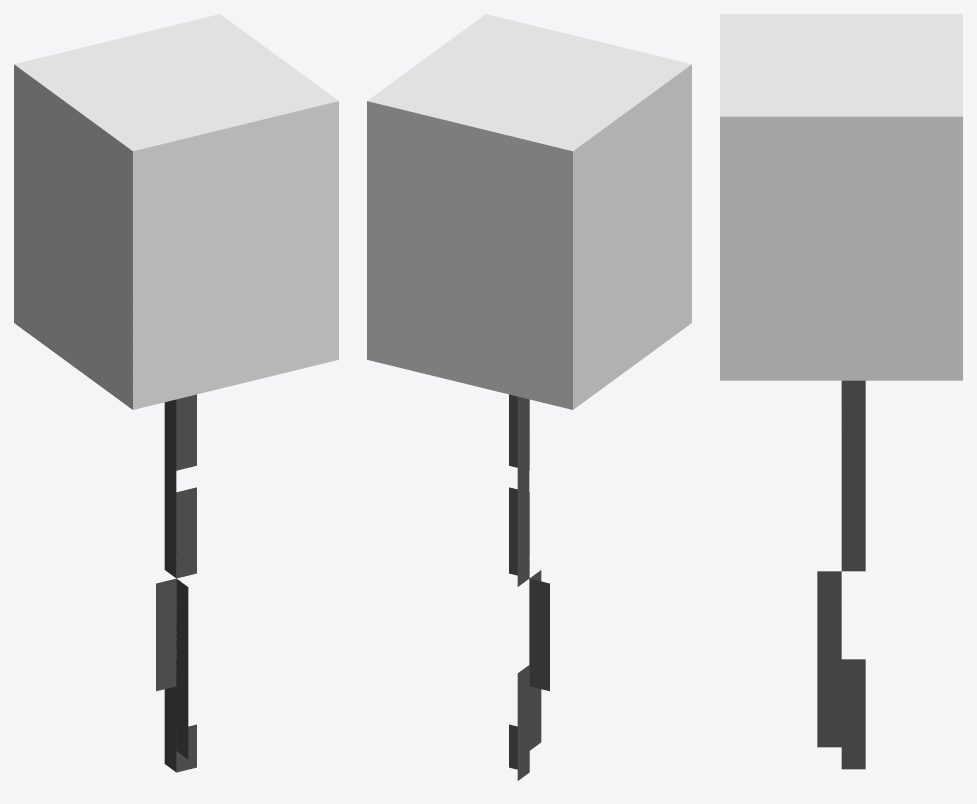
The model's file is balloon.fbx.
The picture shows the model from 3 angles, left to right: view 1: azimuth 30°, elevation 25°; view 2: azimuth 150°, elevation 25°; view 3: azimuth 270°, elevation 25°; orthographic projection. The views are drawn at different scales.
Visible parts, largest first — view 1: cube, plane, plane_1; view 2: cube, plane_1, plane; view 3: cube, plane_1.
Boxes of the visible parts, x1,y1,x2,y2 form: cube: (14, 14, 338, 409); plane: (156, 394, 196, 772); plane_1: (164, 399, 188, 771); cube: (367, 14, 691, 409); plane_1: (517, 396, 541, 780); plane: (509, 394, 549, 772); cube: (720, 14, 962, 380); plane_1: (817, 380, 865, 769).
Size of the model in its own units: 62.5 by 200 by 62.5.
